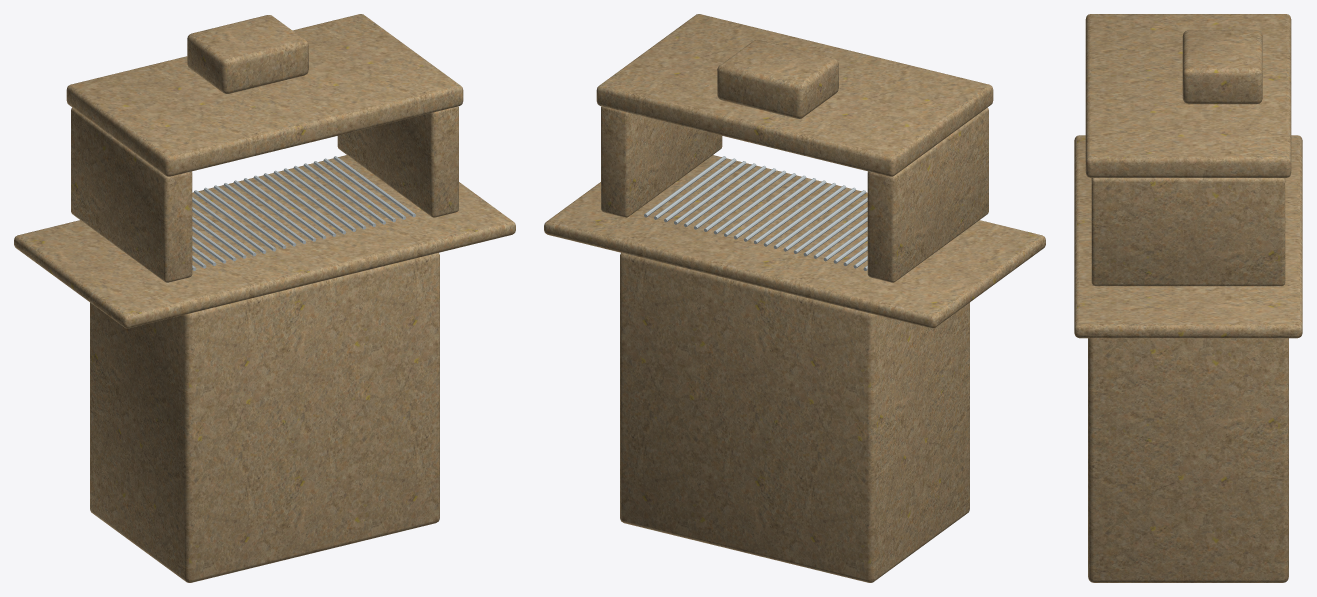
Rendered from barbacoa_obra_exterior.glb.
3 renders of one model, left to right at view 1: azimuth 30°, elevation 25°; view 2: azimuth 150°, elevation 25°; view 3: azimuth 270°, elevation 25°, orthographic.
Parts seen in each view (by area): view 1: barbacoa_obra_exterior; view 2: barbacoa_obra_exterior; view 3: barbacoa_obra_exterior.
Part boxes in pixels (<box>): barbacoa_obra_exterior: <box>14,14,515,582</box>; barbacoa_obra_exterior: <box>544,14,1045,582</box>; barbacoa_obra_exterior: <box>1074,14,1302,582</box>.
Size of the model in its own units: 1.4 by 1.6 by 0.7001.
Materials: 2 (1 with a texture image).
